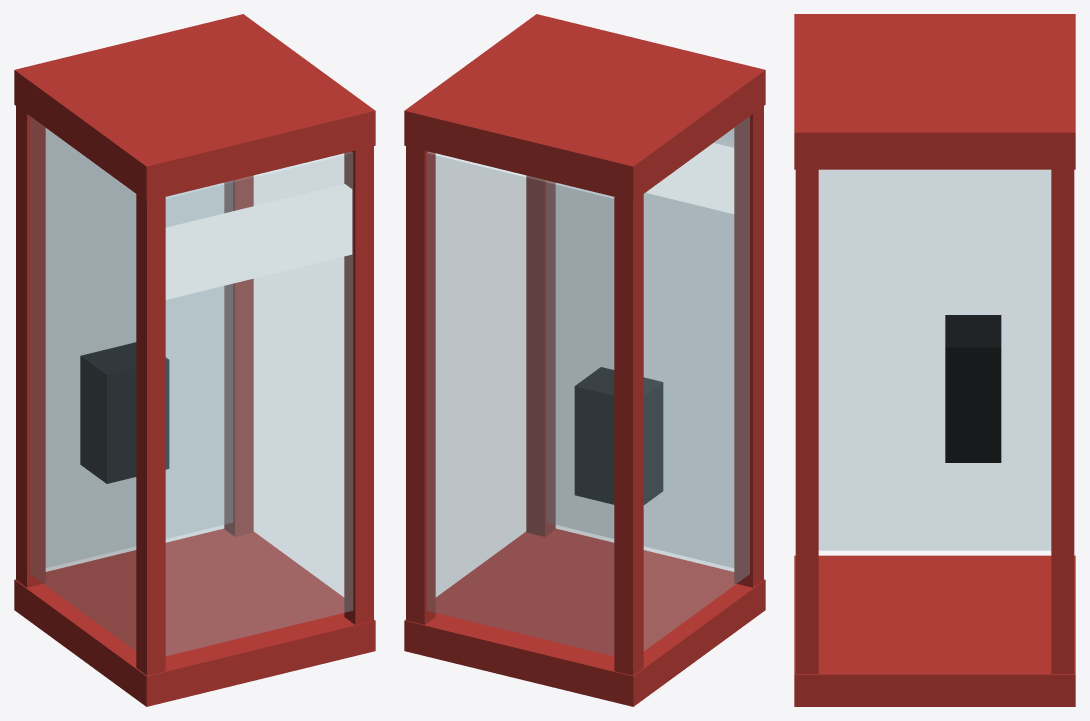
File: phone-booth.glb
3 renders of one model, left to right at view 1: azimuth 30°, elevation 25°; view 2: azimuth 150°, elevation 25°; view 3: azimuth 270°, elevation 25°, orthographic. The views are drawn at different scales.
Visible parts, largest first — view 1: phone-booth; view 2: phone-booth; view 3: phone-booth.
Part boxes in pixels (x1,y1,x2,y2): phone-booth: (14, 14, 375, 706); phone-booth: (404, 14, 765, 706); phone-booth: (794, 14, 1075, 706).
Bounding box in the file's own units: 1.1 × 2.48 × 1.1.
